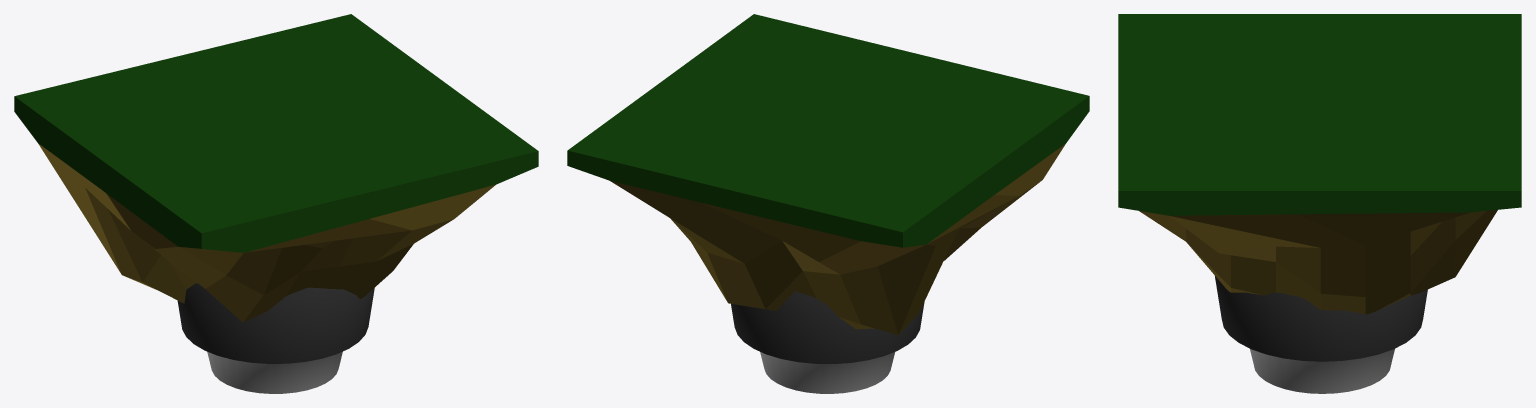
File: Island7.fbx
3 renders of one model, left to right at view 1: azimuth 30°, elevation 25°; view 2: azimuth 150°, elevation 25°; view 3: azimuth 270°, elevation 25°, orthographic. The views are drawn at different scales.
Visible parts, largest first — view 1: Island7; view 2: Island7; view 3: Island7.
Part boxes in pixels (x1,y1,x2,y2): Island7: (14,14,538,393); Island7: (567,14,1089,393); Island7: (1118,14,1521,393).
Bounding box in the file's own units: 4637 × 3211 × 4465.
